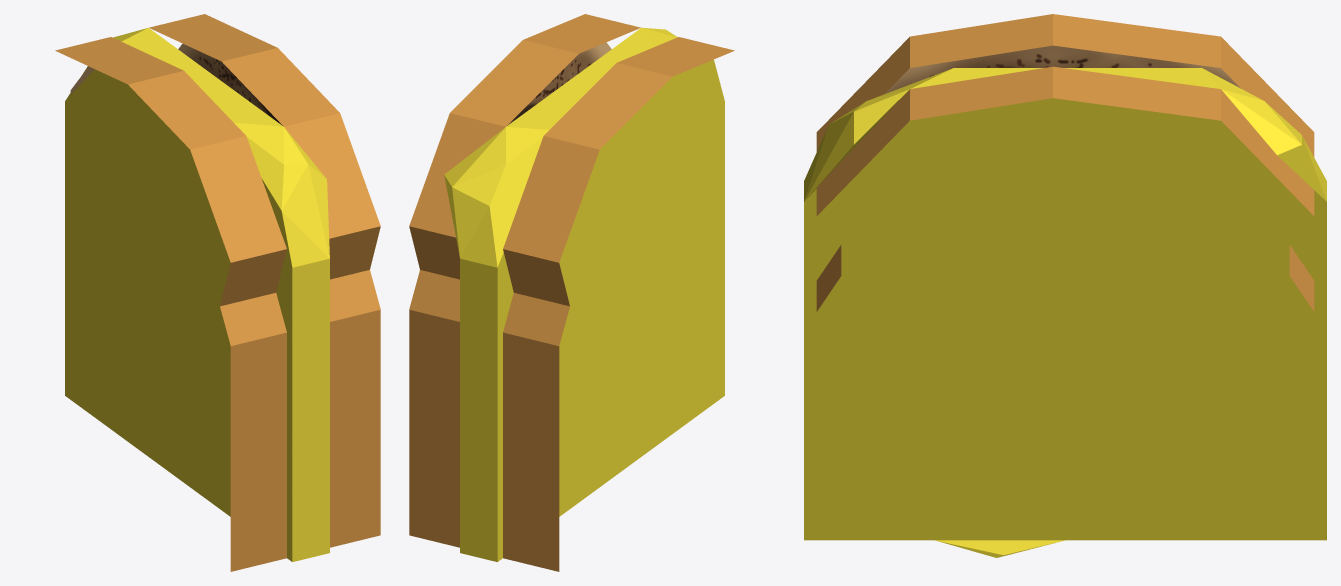
The model's file is cooked-grilledcheese.glb.
The picture shows the model from 3 angles, left to right: view 1: azimuth 30°, elevation 25°; view 2: azimuth 150°, elevation 25°; view 3: azimuth 270°, elevation 25°; orthographic projection. The views are drawn at different scales.
Parts seen in each view (by area): view 1: Node; view 2: Node; view 3: Node.
Part boxes in pixels (<box>): Node: <box>55,14,380,571</box>; Node: <box>409,14,734,571</box>; Node: <box>804,14,1326,557</box>.
Size of the model in its own units: 0.08 by 0.2152 by 0.21.
Materials: 3 (1 with a texture image).
